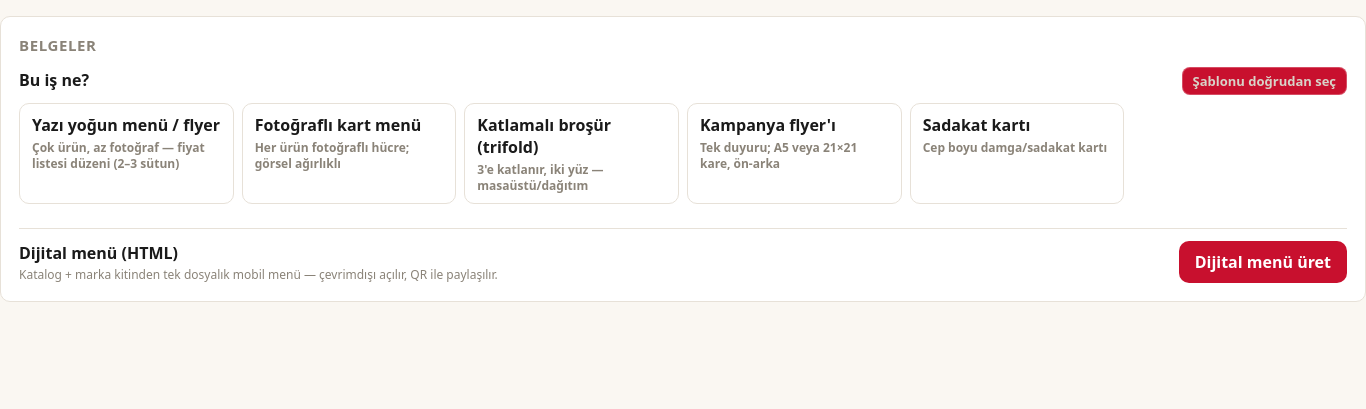
dijital menü geçmişi › YENİ ÜRETİM SONRASI LİSTE TAZELENİR (üretim olmuş gibi görünüp kaybolmaz)
This screenshot has width=1366, height=409.
Click the button "Dijital menü üret": (1263, 262) 1179,241 -> 1347,283
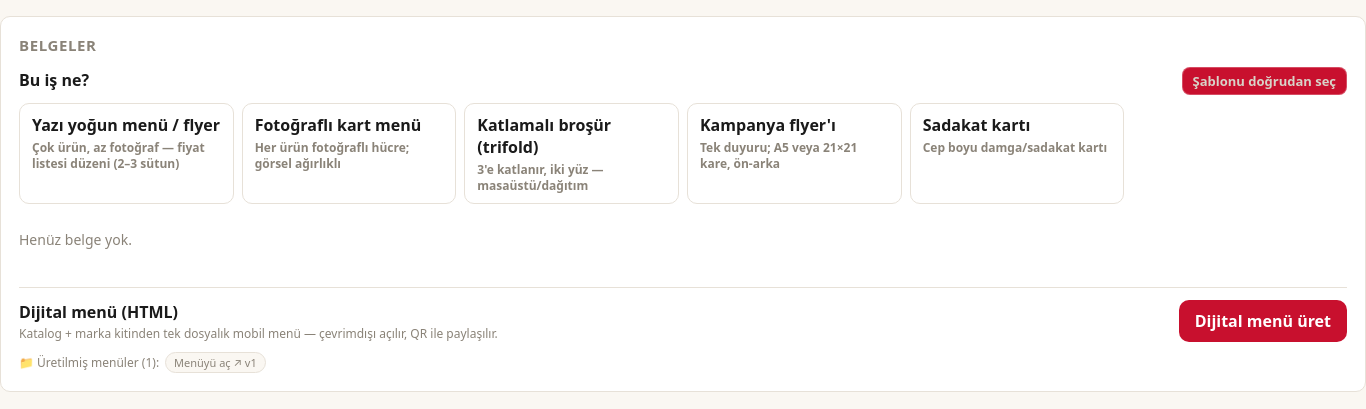
Expected: the text "📁 Üretilmiş menüler (1):" is shown, 19,354 -> 159,371
